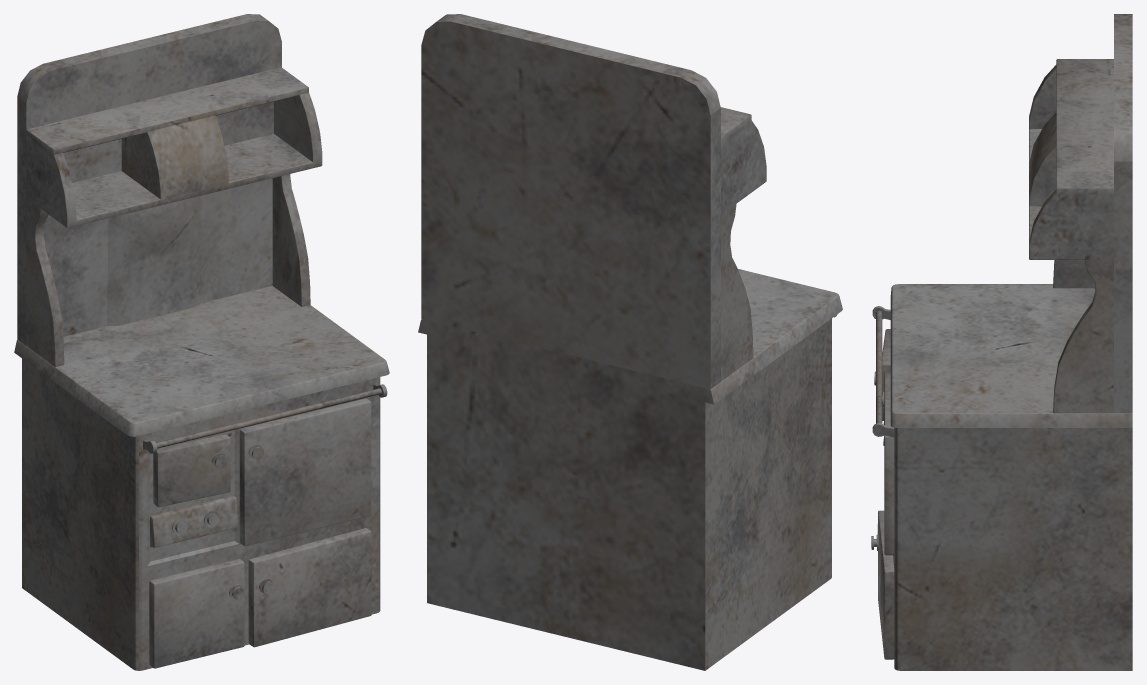
File: SM_FAR_CookingStove_01.fbx
3 views of the same model, side by side, from view 1: azimuth 30°, elevation 25°; view 2: azimuth 150°, elevation 25°; view 3: azimuth 270°, elevation 25° (orthographic). The views are drawn at different scales.
Parts seen in each view (by area): view 1: SM_FAR_CookingStove_01.mo; view 2: SM_FAR_CookingStove_01.mo; view 3: SM_FAR_CookingStove_01.mo.
Boxes of the visible parts, x1=… form: SM_FAR_CookingStove_01.mo: x1=14, y1=14, x2=389, y2=670; SM_FAR_CookingStove_01.mo: x1=418, y1=14, x2=842, y2=670; SM_FAR_CookingStove_01.mo: x1=871, y1=14, x2=1132, y2=670.
Size of the model in its own units: 113 by 215 by 94.26.
